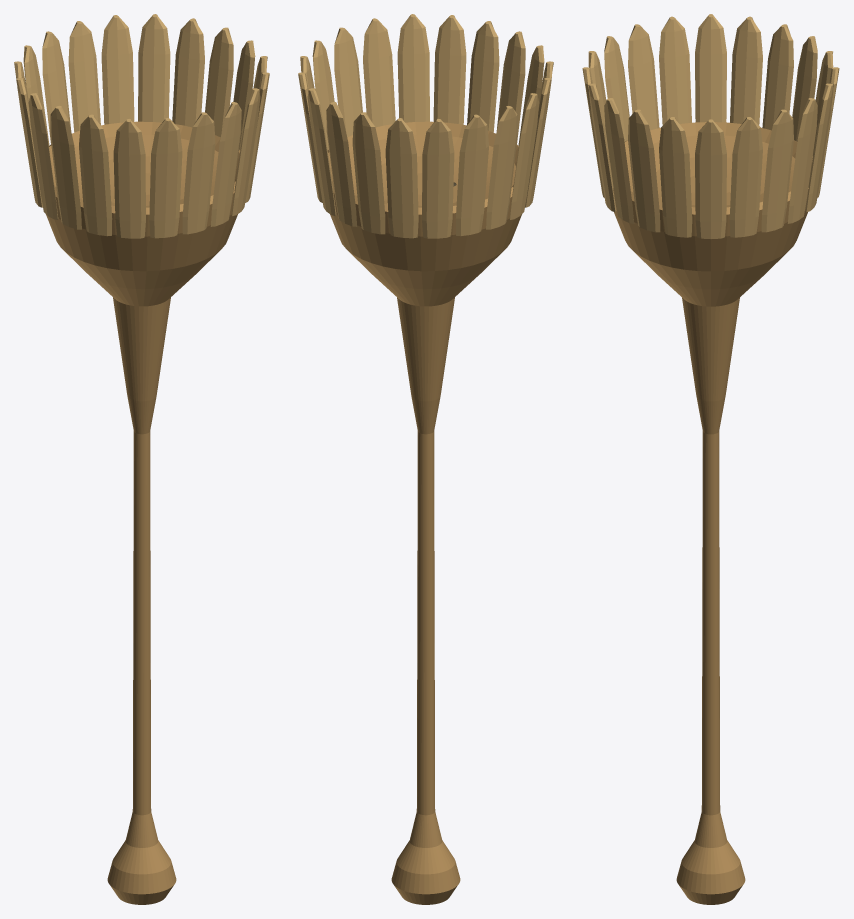
The picture shows the model from 3 angles, left to right: view 1: azimuth 30°, elevation 25°; view 2: azimuth 150°, elevation 25°; view 3: azimuth 270°, elevation 25°; orthographic projection.
Parts seen in each view (by area): view 1: twenty_stiff_flattened_upright_bracts, bulb_stem_and_open_calyx_full_organism; view 2: twenty_stiff_flattened_upright_bracts, bulb_stem_and_open_calyx_full_organism; view 3: twenty_stiff_flattened_upright_bracts, bulb_stem_and_open_calyx_full_organism.
Part boxes in pixels (<box>): twenty_stiff_flattened_upright_bracts: <box>14,14,269,238</box>; bulb_stem_and_open_calyx_full_organism: <box>46,121,240,904</box>; twenty_stiff_flattened_upright_bracts: <box>298,14,553,238</box>; bulb_stem_and_open_calyx_full_organism: <box>327,121,521,904</box>; twenty_stiff_flattened_upright_bracts: <box>582,14,839,238</box>; bulb_stem_and_open_calyx_full_organism: <box>609,122,812,904</box>.
Bounding box in the file's own units: 0.00784 × 0.028 × 0.00784.
